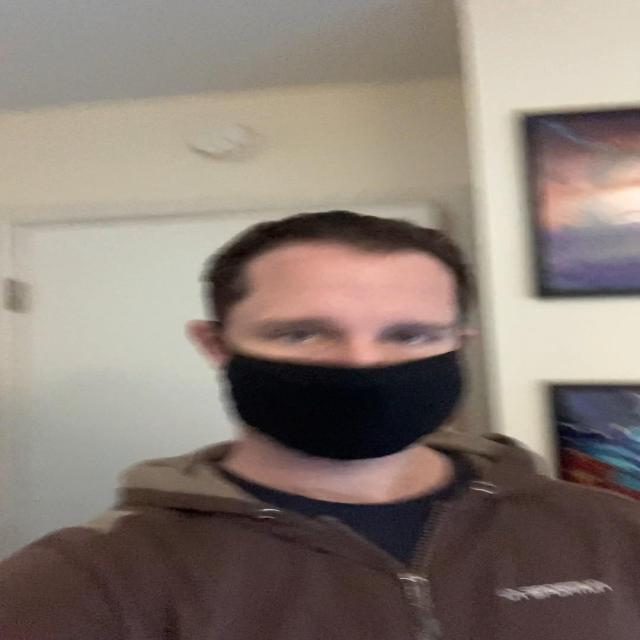no-helmet: (192, 227, 495, 494)
